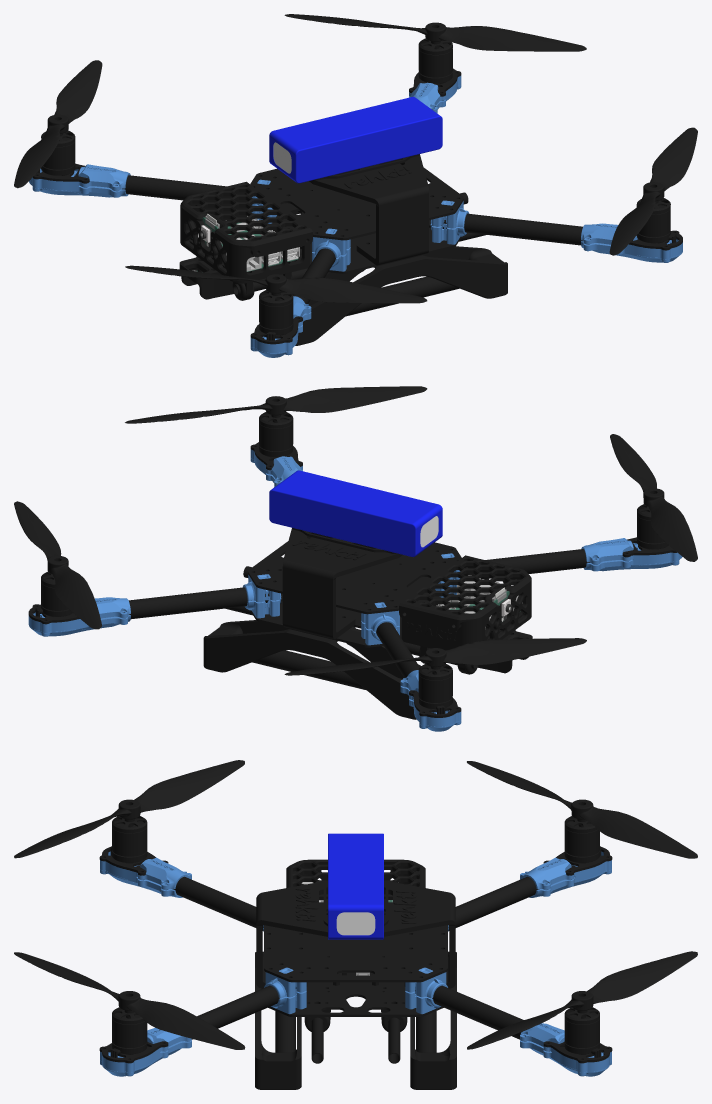
File: drone.glb
3 views of the same model, one above another, from view 1: azimuth 30°, elevation 25°; view 2: azimuth 150°, elevation 25°; view 3: azimuth 270°, elevation 25° (orthographic). The views are drawn at different scales.
Parts seen in each view (by area): view 1: object 1, object 22, object 3, object 2, anim_drone_1_Propeller_10x45_2, anim_drone_3_Propeller_10x45_4, anim_drone_2_Propeller_10x45_3, anim_drone_0_Propeller_10x45_1, object 5; view 2: object 1, object 22, object 3, object 2, anim_drone_0_Propeller_10x45_1, anim_drone_2_Propeller_10x45_3, anim_drone_3_Propeller_10x45_4, anim_drone_1_Propeller_10x45_2; view 3: object 1, object 2, object 3, object 22, anim_drone_3_Propeller_10x45_4, anim_drone_1_Propeller_10x45_2, anim_drone_0_Propeller_10x45_1, anim_drone_2_Propeller_10x45_3, object 13.
Boxes of the visible parts, x1,y1,x2,y2 form: object 1: (32, 38, 682, 345); object 22: (269, 96, 442, 183); object 3: (29, 75, 682, 357); object 2: (122, 175, 582, 316); anim_drone_1_Propeller_10x45_2: (125, 265, 427, 303); anim_drone_3_Propeller_10x45_4: (284, 14, 586, 51); anim_drone_2_Propeller_10x45_3: (14, 60, 102, 188); anim_drone_0_Propeller_10x45_1: (609, 127, 697, 255); object 5: (192, 215, 299, 271); object 1: (28, 412, 676, 719); object 22: (269, 470, 442, 556); object 3: (28, 449, 682, 731); object 2: (128, 549, 590, 690); anim_drone_0_Propeller_10x45_1: (125, 386, 427, 423); anim_drone_2_Propeller_10x45_3: (284, 638, 586, 675); anim_drone_3_Propeller_10x45_4: (14, 501, 101, 629); anim_drone_1_Propeller_10x45_2: (610, 434, 697, 561); object 1: (99, 816, 612, 1089); object 2: (147, 876, 564, 1063); object 3: (100, 851, 611, 1076); object 22: (328, 833, 383, 939); anim_drone_3_Propeller_10x45_4: (467, 951, 697, 1049); anim_drone_1_Propeller_10x45_2: (14, 760, 244, 858); anim_drone_0_Propeller_10x45_1: (14, 952, 245, 1049); anim_drone_2_Propeller_10x45_3: (467, 761, 697, 858); object 13: (336, 912, 375, 935).
Bounding box in the file's own units: 0.5344 × 0.1445 × 0.5344.
